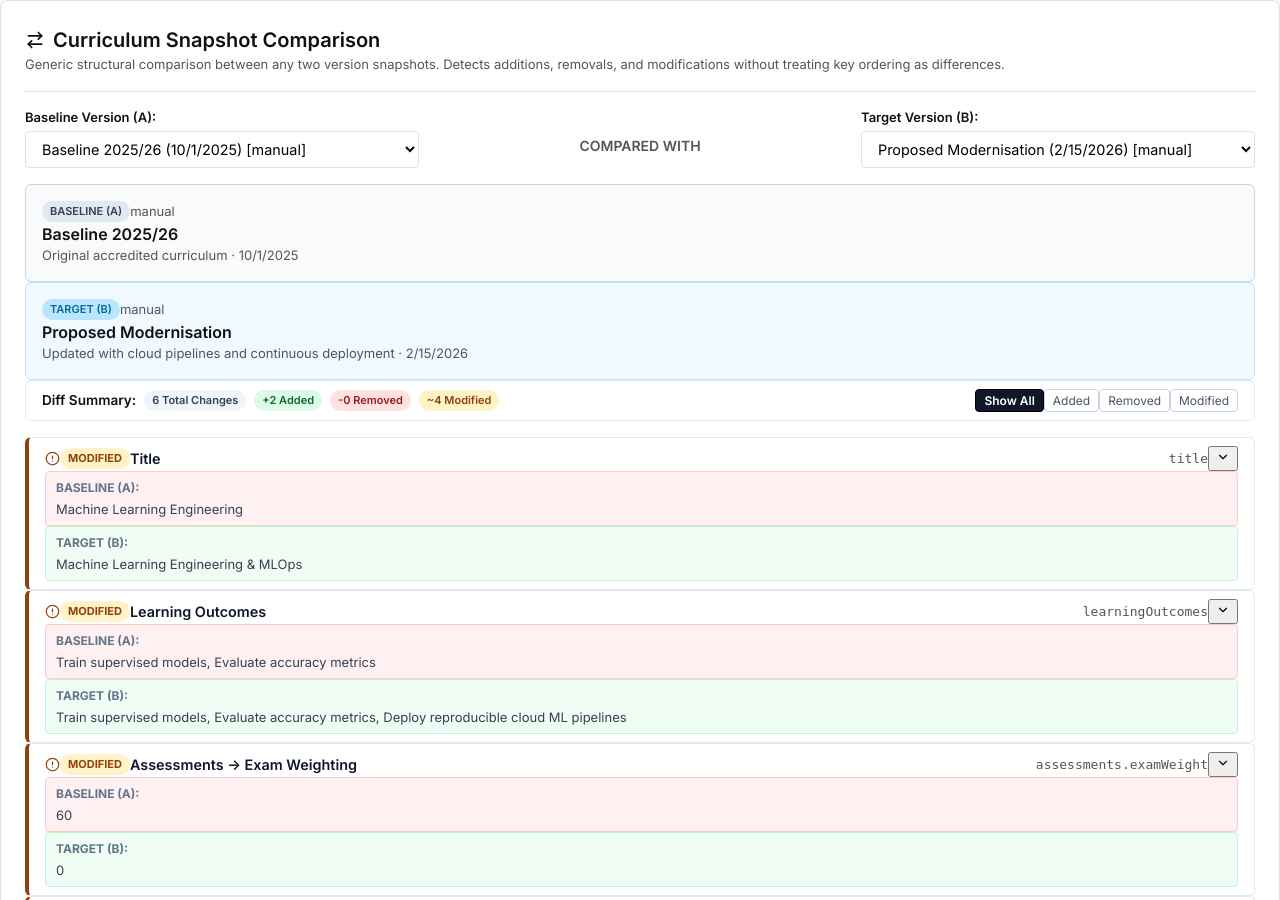
it: Batch 3 — Quality, Reporting and Standalone Readiness › Version Comparison Card (Generic Engine) › filters diff list by change type pills
Click the button with test id "filter-pill-added". click: point(1071, 400)
box: [1044,389,1099,412]
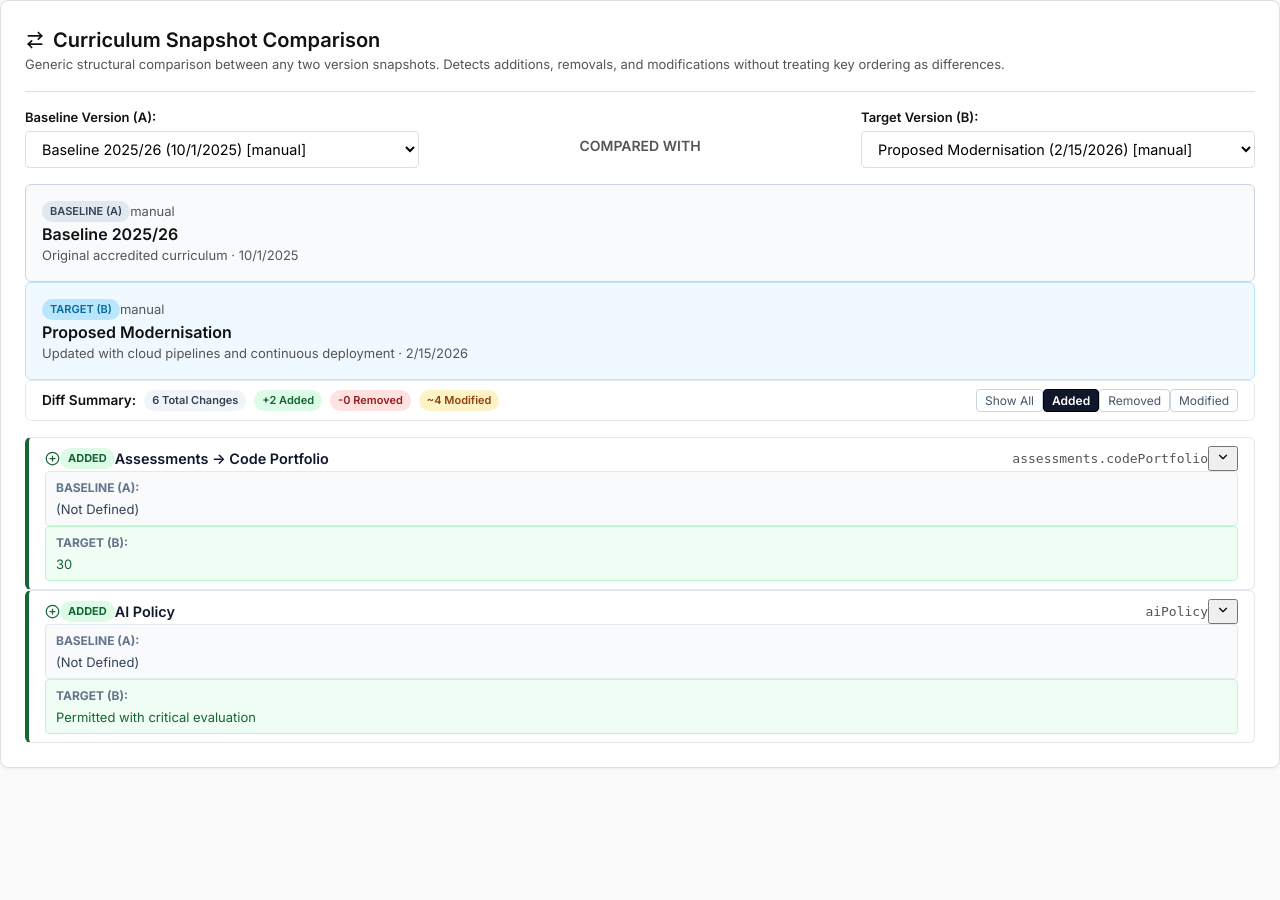
Expected: the text "AI Policy" is shown, [115,601,175,622]
Click the button with test id "filter-pill-all". click: point(1010, 400)
box: [976,389,1043,412]
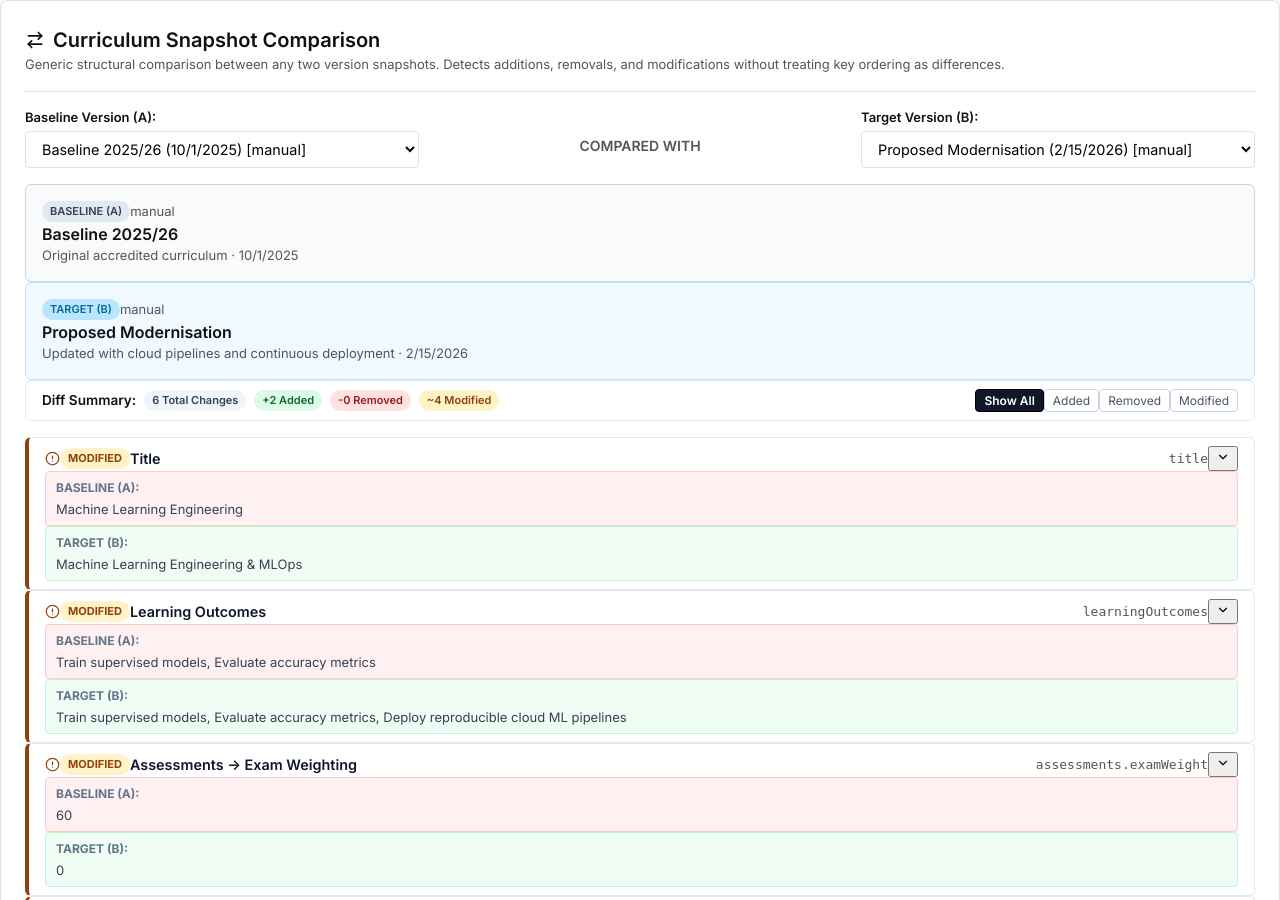
Expected: the text "Title" is shown, [130,448,161,469]
